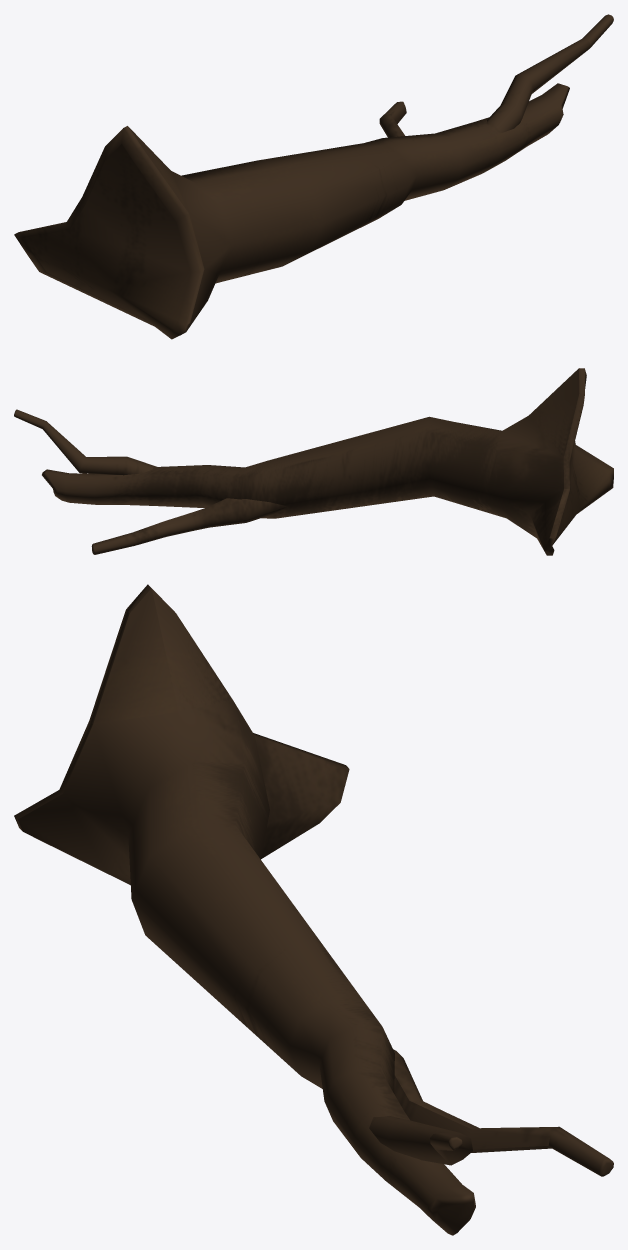
The model's file is DeadTree_MOD.fbx.
3 renders of one model, top to bottom at view 1: azimuth 30°, elevation 25°; view 2: azimuth 150°, elevation 25°; view 3: azimuth 270°, elevation 25°, orthographic. The views are drawn at different scales.
Parts seen in each view (by area): view 1: DeadTree_MOD; view 2: DeadTree_MOD; view 3: DeadTree_MOD.
Boxes of the visible parts, x1,y1,x2,y2 form: DeadTree_MOD: [14, 14, 613, 339]; DeadTree_MOD: [14, 368, 613, 555]; DeadTree_MOD: [14, 584, 613, 1235].
Bounding box in the file's own units: 639 × 212 × 384.
